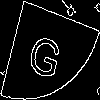G: (25, 25, 66, 82)
